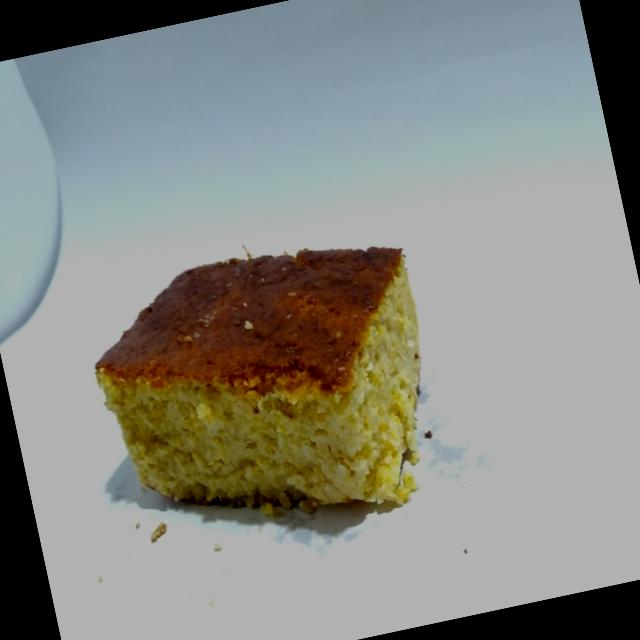Chipa_Guazu: (56, 200, 477, 584)
